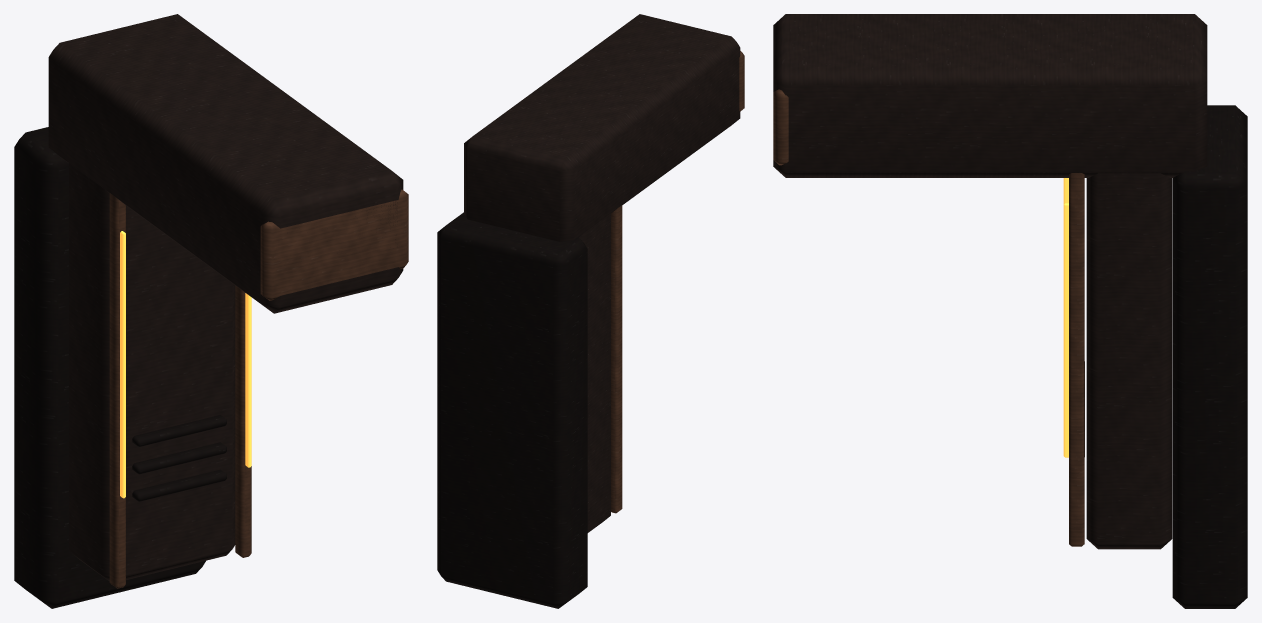
File: zone_threshold.glb
3 renders of one model, left to right at view 1: azimuth 30°, elevation 25°; view 2: azimuth 150°, elevation 25°; view 3: azimuth 270°, elevation 25°, orthographic. The views are drawn at different scales.
Parts seen in each view (by area): view 1: zone_threshold - Heat-treated steel, zone_threshold - Cast iron, zone_threshold - Burnished nickel, zone_threshold - Molten amber; view 2: zone_threshold - Cast iron, zone_threshold - Heat-treated steel, zone_threshold - Burnished nickel; view 3: zone_threshold - Heat-treated steel, zone_threshold - Cast iron, zone_threshold - Burnished nickel, zone_threshold - Molten amber.
Part boxes in pixels (x1=…): zone_threshold - Heat-treated steel: x1=48, y1=14, x2=403, y2=581; zone_threshold - Cast iron: x1=14, y1=127, x2=226, y2=608; zone_threshold - Burnished nickel: x1=109, y1=189, x2=408, y2=588; zone_threshold - Molten amber: x1=120, y1=231, x2=251, y2=498; zone_threshold - Cast iron: x1=437, y1=212, x2=587, y2=608; zone_threshold - Heat-treated steel: x1=464, y1=14, x2=740, y2=532; zone_threshold - Burnished nickel: x1=611, y1=51, x2=744, y2=513; zone_threshold - Heat-treated steel: x1=773, y1=14, x2=1207, y2=549; zone_threshold - Cast iron: x1=1084, y1=105, x2=1247, y2=608; zone_threshold - Burnished nickel: x1=773, y1=89, x2=1084, y2=546; zone_threshold - Molten amber: x1=1063, y1=178, x2=1068, y2=457.
Size of the model in its own units: 2.23 by 7.15 by 5.76.
4 materials, 3 textured.
